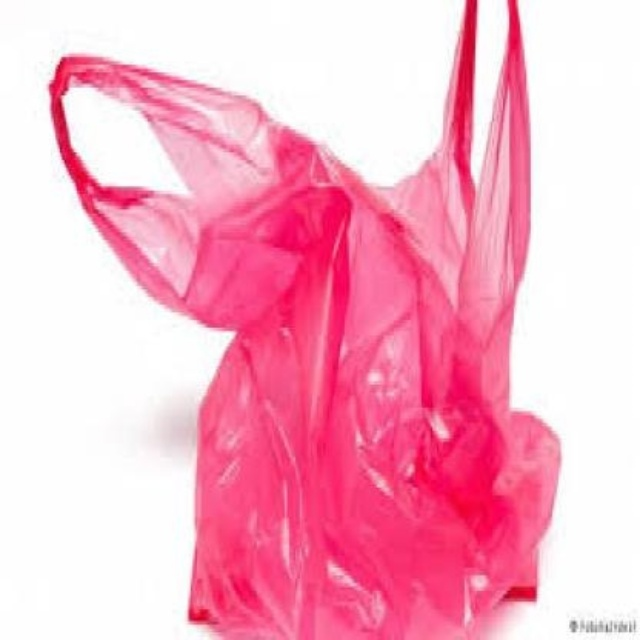trash: (51, 0, 558, 638), (68, 89, 178, 191)
